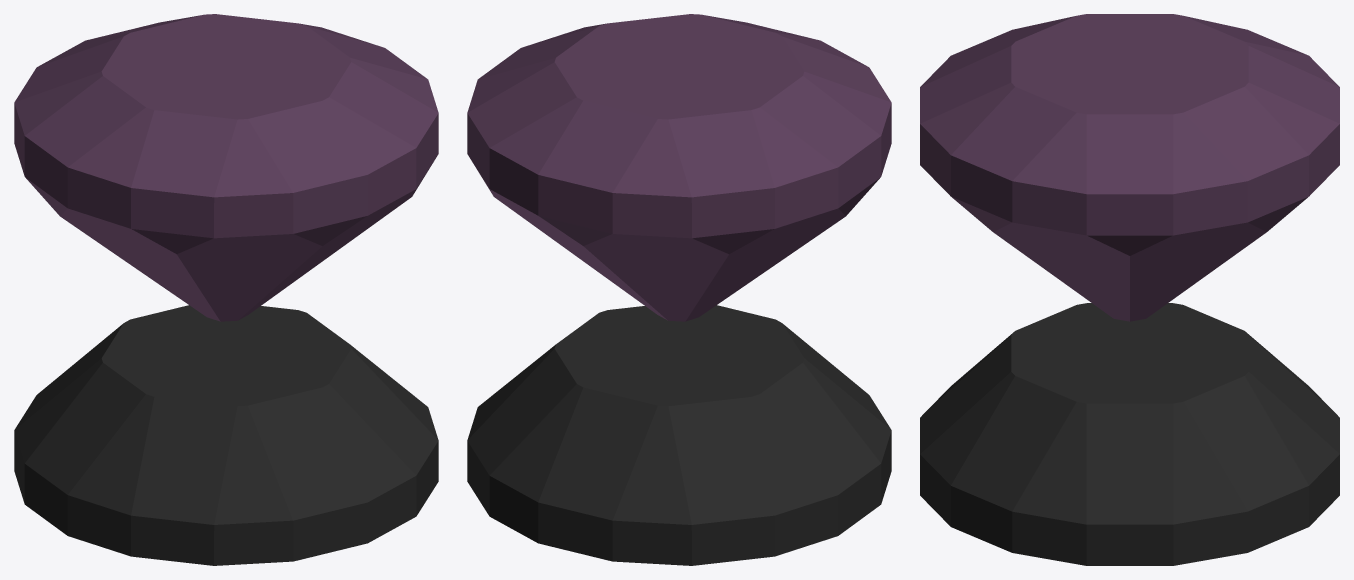
The model's file is gem_plinth.glb.
3 views of the same model, side by side, from view 1: azimuth 30°, elevation 25°; view 2: azimuth 150°, elevation 25°; view 3: azimuth 270°, elevation 25° (orthographic).
Parts seen in each view (by area): view 1: FakeGem, GemPlinth; view 2: FakeGem, GemPlinth; view 3: FakeGem, GemPlinth.
Boxes of the visible parts, x1,y1,x2,y2 form: FakeGem: [14, 14, 438, 321]; GemPlinth: [14, 305, 438, 565]; FakeGem: [467, 14, 891, 321]; GemPlinth: [467, 305, 891, 565]; FakeGem: [920, 14, 1339, 321]; GemPlinth: [920, 303, 1339, 565].
Bounding box in the file's own units: 0.4606 × 0.5 × 0.4606.
